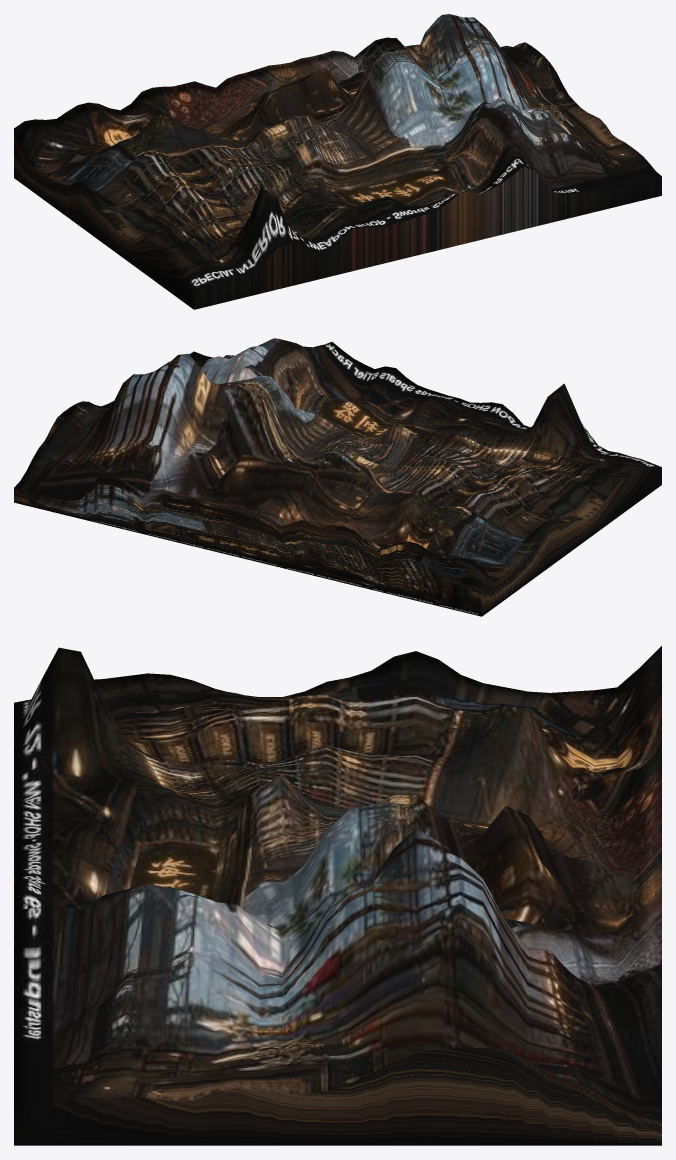
Rendered from SPECIAL_INT_12_Weapon_Shop.glb.
The picture shows the model from 3 angles, top to bottom: view 1: azimuth 30°, elevation 25°; view 2: azimuth 150°, elevation 25°; view 3: azimuth 270°, elevation 25°; orthographic projection. The views are drawn at different scales.
Parts seen in each view (by area): view 1: SPECIAL_INT_12_Weapon_Shop; view 2: SPECIAL_INT_12_Weapon_Shop; view 3: SPECIAL_INT_12_Weapon_Shop.
Boxes of the visible parts, x1=… form: SPECIAL_INT_12_Weapon_Shop: x1=14, y1=14, x2=661, y2=309; SPECIAL_INT_12_Weapon_Shop: x1=14, y1=338, x2=661, y2=616; SPECIAL_INT_12_Weapon_Shop: x1=14, y1=646, x2=661, y2=1145.
Size of the model in its own units: 2 by 0.51 by 1.33.
1 material, 1 textured.
